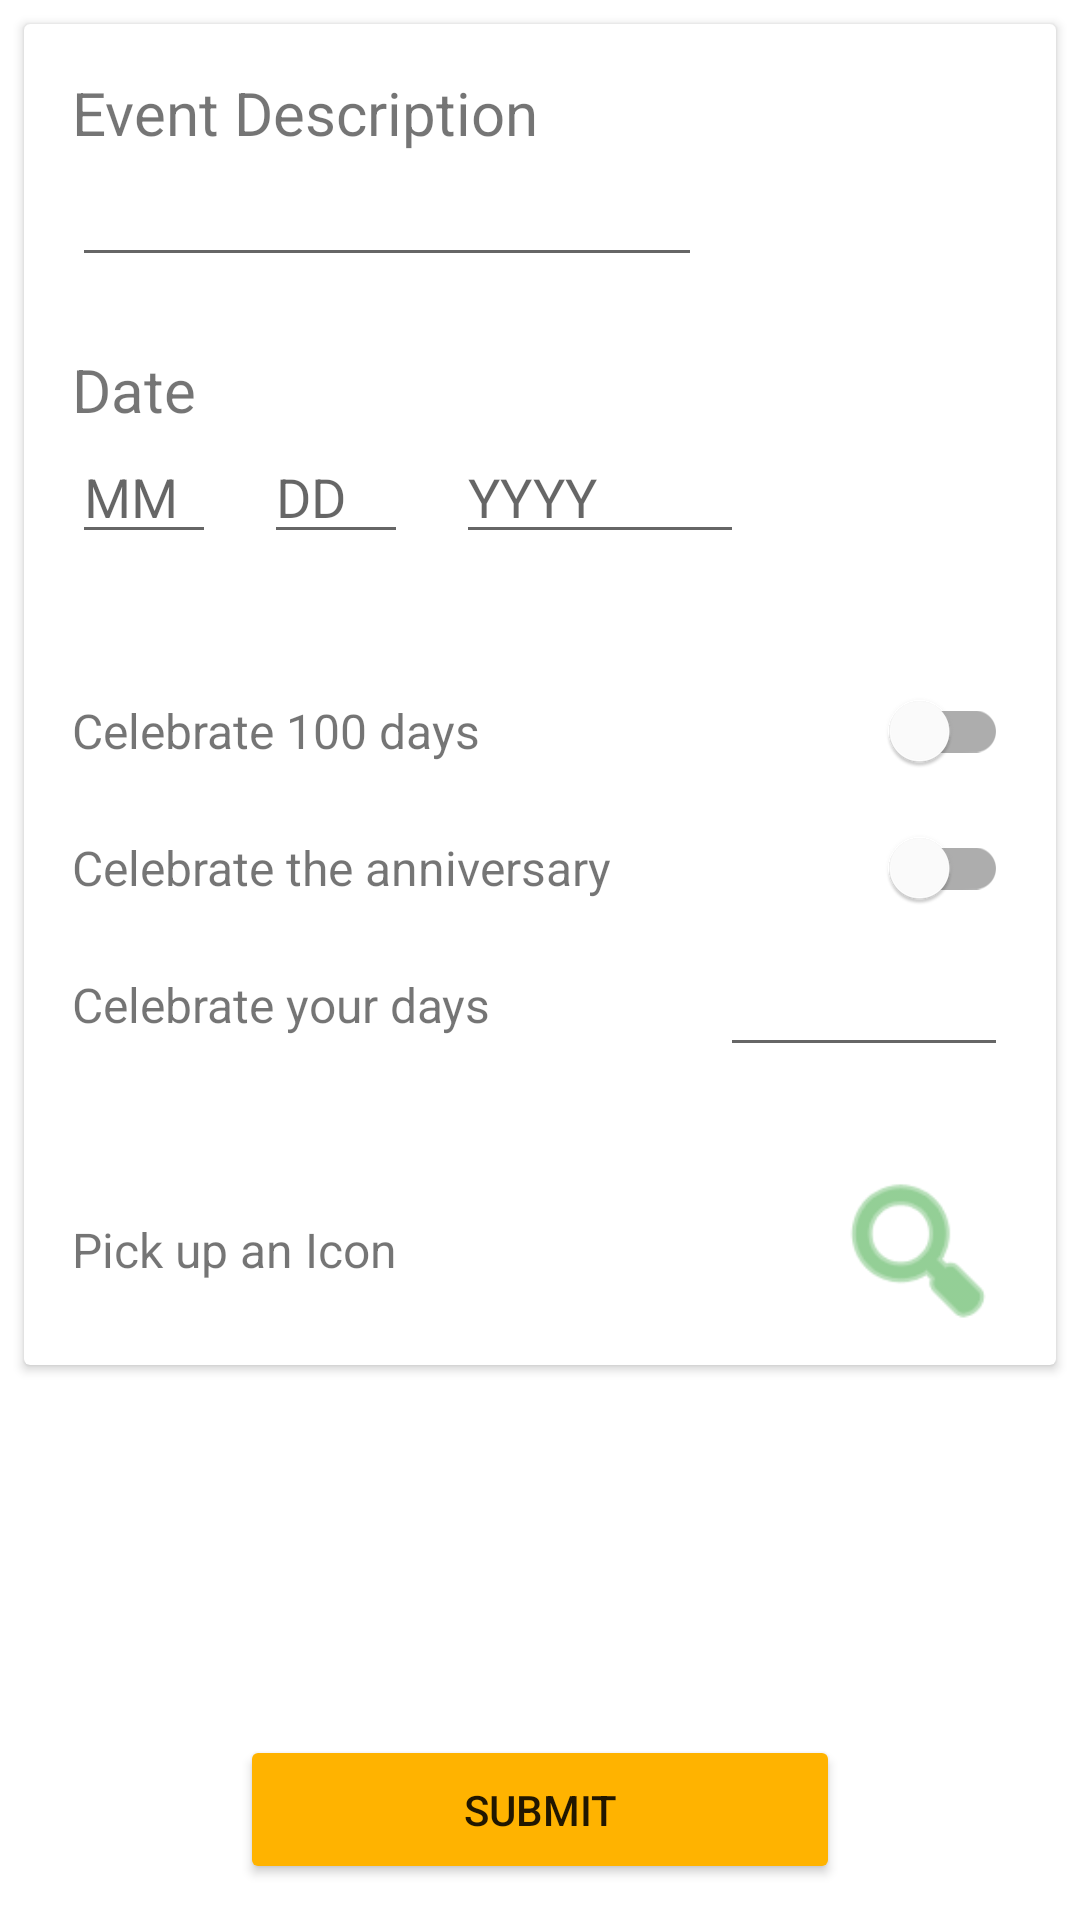

Screen size 1080 × 1920. Icon name, then its box in pixels as (x1, y1, x2, y2):
search: (852, 1184, 984, 1318)
